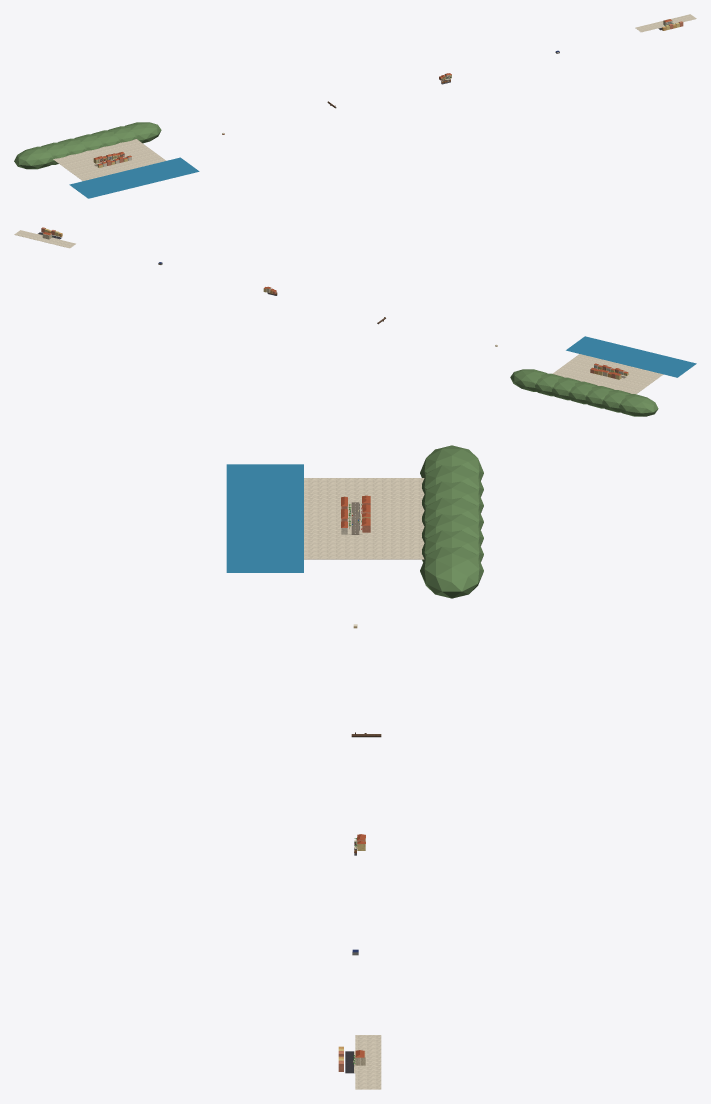
Rendered from terowongan.glb.
The picture shows the model from 3 angles, top to bottom: view 1: azimuth 30°, elevation 25°; view 2: azimuth 150°, elevation 25°; view 3: azimuth 270°, elevation 25°; orthographic projection. The views are drawn at different scales.
Parts seen in each view (by area): view 1: LautJauh, L1_Jalan__solo_Plester_Krem.002, BukitJauh0, BukitJauh6, L1_Jalan, L6_Hakim__solo_Plester_Krem, BukitJauh1; view 2: LautJauh, L1_Jalan__solo_Plester_Krem.002, BukitJauh0, BukitJauh6, BukitJauh3, BukitJauh2, BukitJauh4, BukitJauh5, BukitJauh1, L6_Hakim__solo_Plester_Krem, L1_Jalan; view 3: L1_Jalan__solo_Plester_Krem.002, LautJauh, BukitJauh6, L6_Hakim__solo_Plester_Krem, BukitJauh0, BukitJauh5, BukitJauh1, BukitJauh2, BukitJauh4, BukitJauh3.
Boxes of the visible parts, bbox=[...] form: LautJauh: bbox=[69, 157, 199, 198]; L1_Jalan__solo_Plester_Krem.002: bbox=[53, 139, 166, 180]; BukitJauh0: bbox=[14, 146, 53, 169]; BukitJauh6: bbox=[125, 122, 161, 143]; L1_Jalan: bbox=[93, 152, 131, 167]; L6_Hakim__solo_Plester_Krem: bbox=[635, 14, 696, 32]; BukitJauh1: bbox=[41, 142, 69, 164]; LautJauh: bbox=[566, 336, 696, 377]; L1_Jalan__solo_Plester_Krem.002: bbox=[552, 354, 663, 394]; BukitJauh0: bbox=[619, 394, 658, 416]; BukitJauh6: bbox=[510, 369, 547, 391]; BukitJauh3: bbox=[568, 381, 597, 404]; BukitJauh2: bbox=[585, 386, 614, 408]; BukitJauh4: bbox=[552, 377, 580, 400]; BukitJauh5: bbox=[535, 373, 563, 396]; BukitJauh1: bbox=[602, 390, 630, 412]; L6_Hakim__solo_Plester_Krem: bbox=[14, 230, 75, 248]; L1_Jalan: bbox=[590, 363, 628, 379]; L1_Jalan__solo_Plester_Krem.002: bbox=[304, 478, 424, 559]; LautJauh: bbox=[226, 464, 303, 572]; BukitJauh6: bbox=[420, 546, 483, 598]; L6_Hakim__solo_Plester_Krem: bbox=[355, 1035, 381, 1089]; BukitJauh0: bbox=[420, 445, 483, 480]; BukitJauh5: bbox=[422, 530, 483, 562]; BukitJauh1: bbox=[422, 465, 483, 496]; BukitJauh2: bbox=[422, 481, 483, 513]; BukitJauh4: bbox=[422, 514, 483, 545]; BukitJauh3: bbox=[422, 497, 483, 529].
Size of the model in its own units: 2356 by 60 by 400.
Materials: 92 (30 with a texture image).
